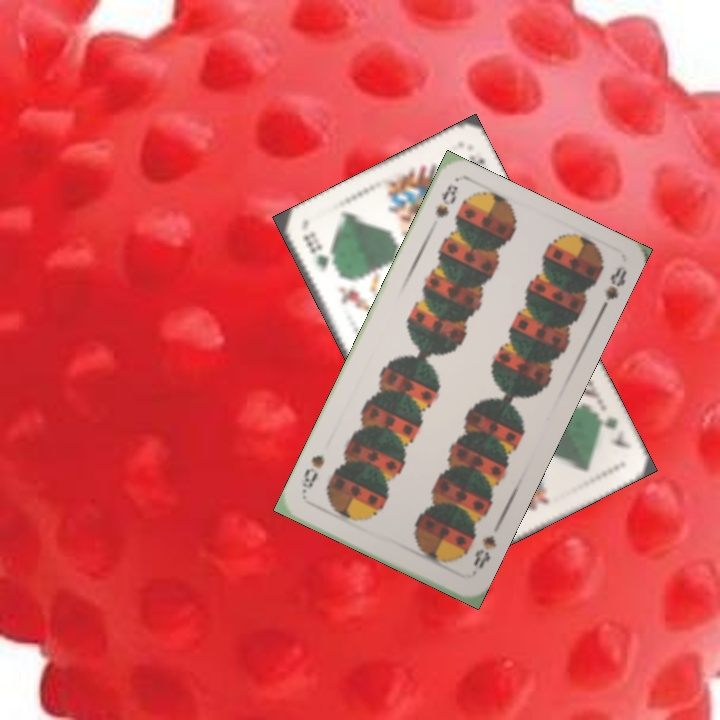GK: (588, 406, 633, 452), (299, 227, 332, 272)
S8: (469, 531, 500, 572), (431, 180, 461, 221)
